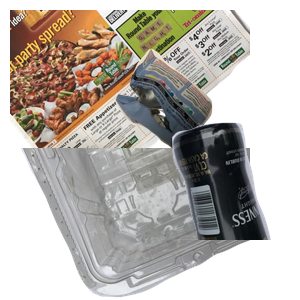glass: (106, 120, 300, 300)
paper: (10, 10, 250, 190)
plastic: (19, 148, 259, 300)
trash: (113, 46, 300, 189)
